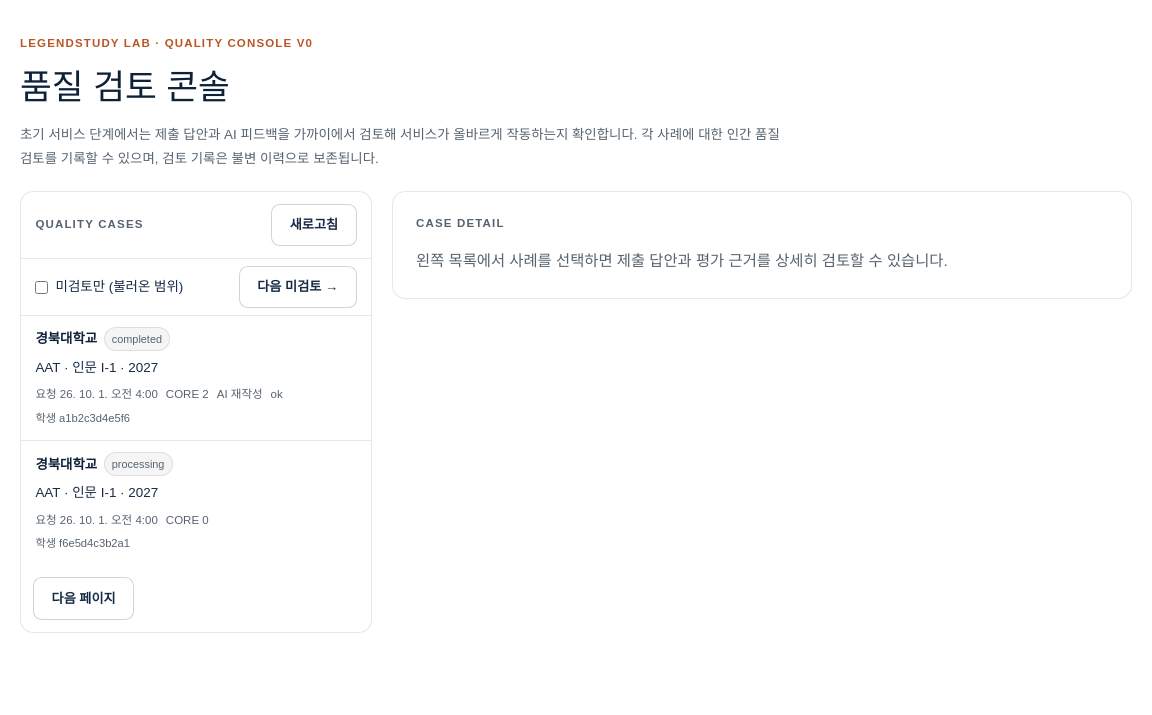
Scenario: QualityConsole operator workspace › T16: detail renders a generated rewrite distinct from student rewrite
The width and height of the screenshot is (1152, 715).
Click the text "completed": (137, 339) [104, 327, 170, 351]
(page scrolled)
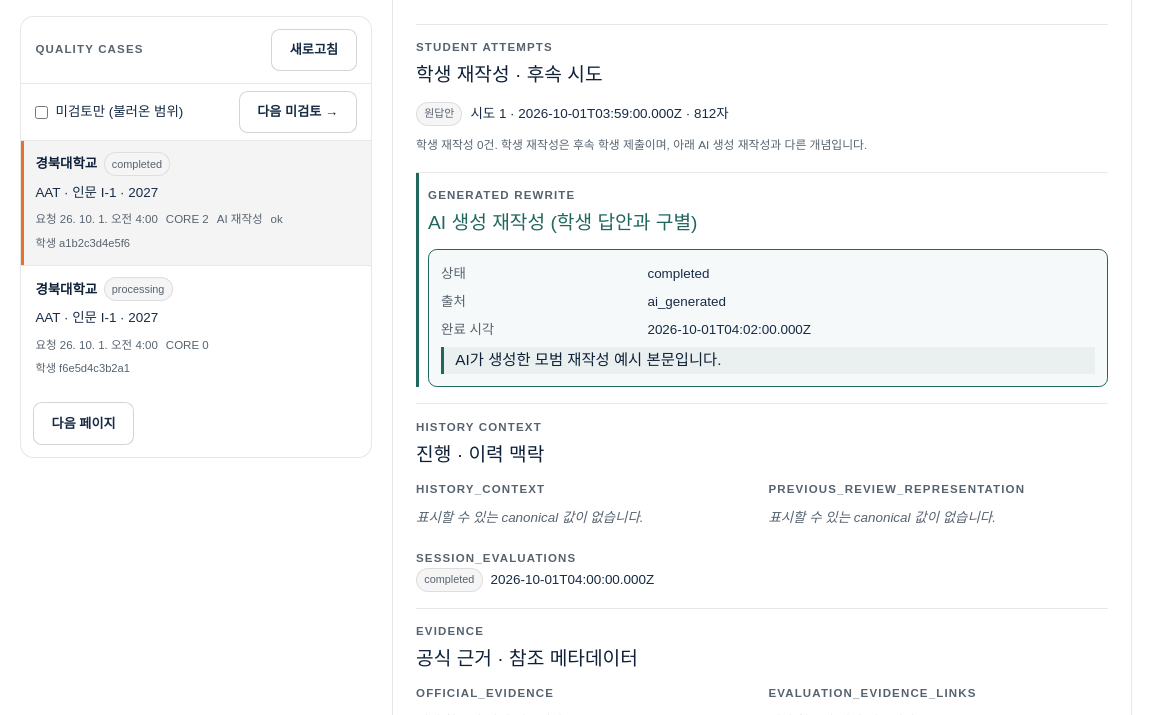
Check: the element with test id "ql-generated-rewrite" is shown, box [428, 250, 1108, 387]
Check: the heading "AI 생성 재작성 (학생 답안과 구별)" is shown, box [428, 212, 697, 233]
Check: the text "AI가 생성한 모범 재작성 예시 본문입니다." is shown, box [441, 347, 1095, 374]
